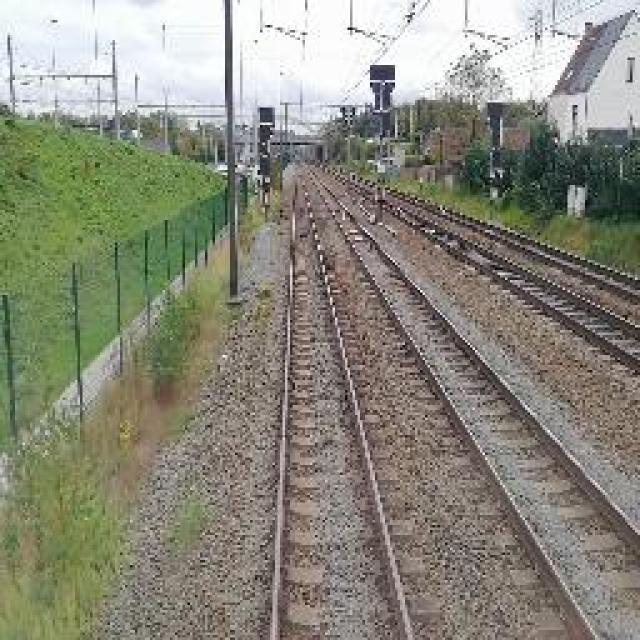rail: (245, 162, 455, 640)
